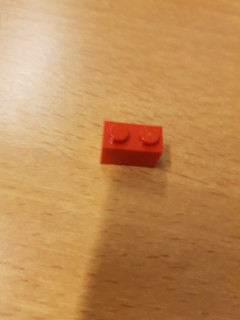1x2 red: (102, 121, 163, 168)
